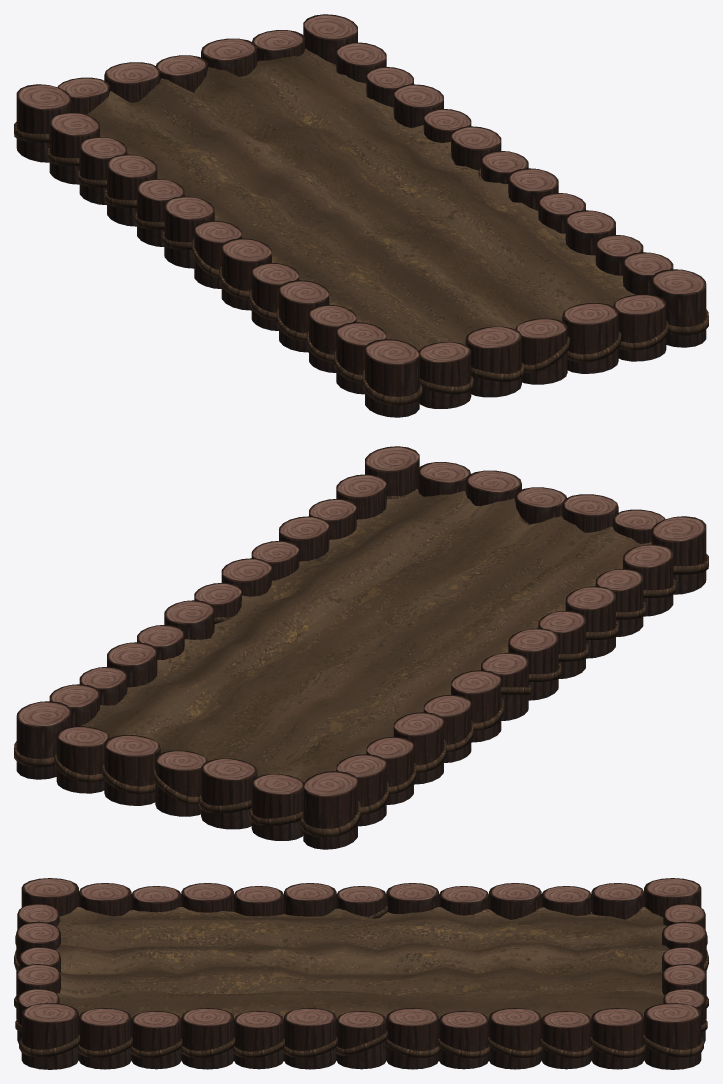
File: Cultivos.fbx
3 renders of one model, top to bottom at view 1: azimuth 30°, elevation 25°; view 2: azimuth 150°, elevation 25°; view 3: azimuth 270°, elevation 25°, orthographic. The views are drawn at different scales.
Visible parts, largest first — view 1: Chinampa; view 2: Chinampa; view 3: Chinampa.
Boxes of the visible parts, x1,y1,x2,y2 form: Chinampa: [14, 14, 708, 417]; Chinampa: [14, 446, 708, 849]; Chinampa: [14, 878, 708, 1069].
Size of the model in its own units: 300 by 45.4 by 600.
Materials: 1 (1 with a texture image).
